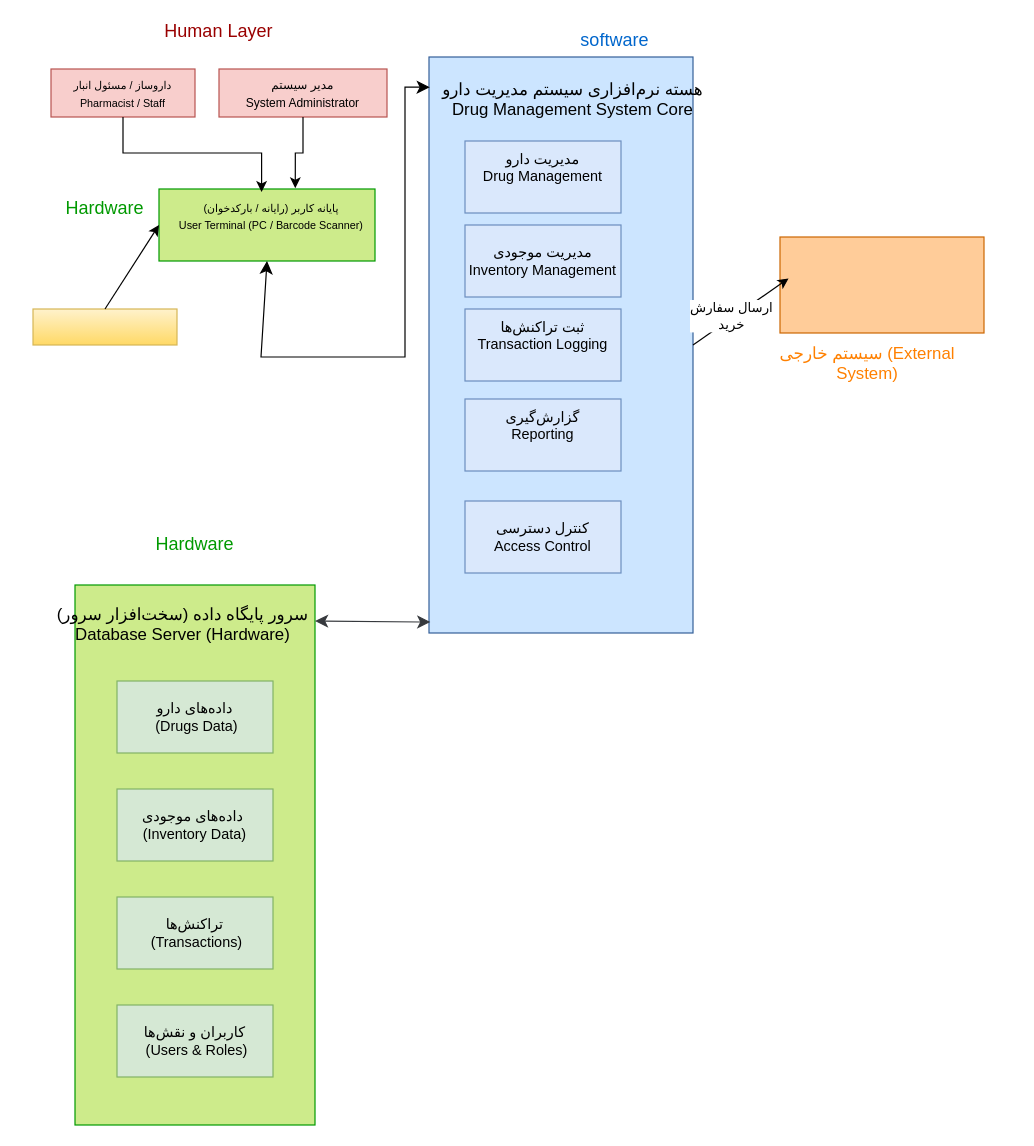
Some shapes in this 1034 by 1146 pixel diagram are drawn without their labels. The box of each missing label's shape, as (x1, y1, x2, y2) in pixels:
تامین‌کننده دارو (خارجی) External Supplier: (779, 236, 984, 333)
چاپگر فاکتور: (32, 308, 177, 345)
